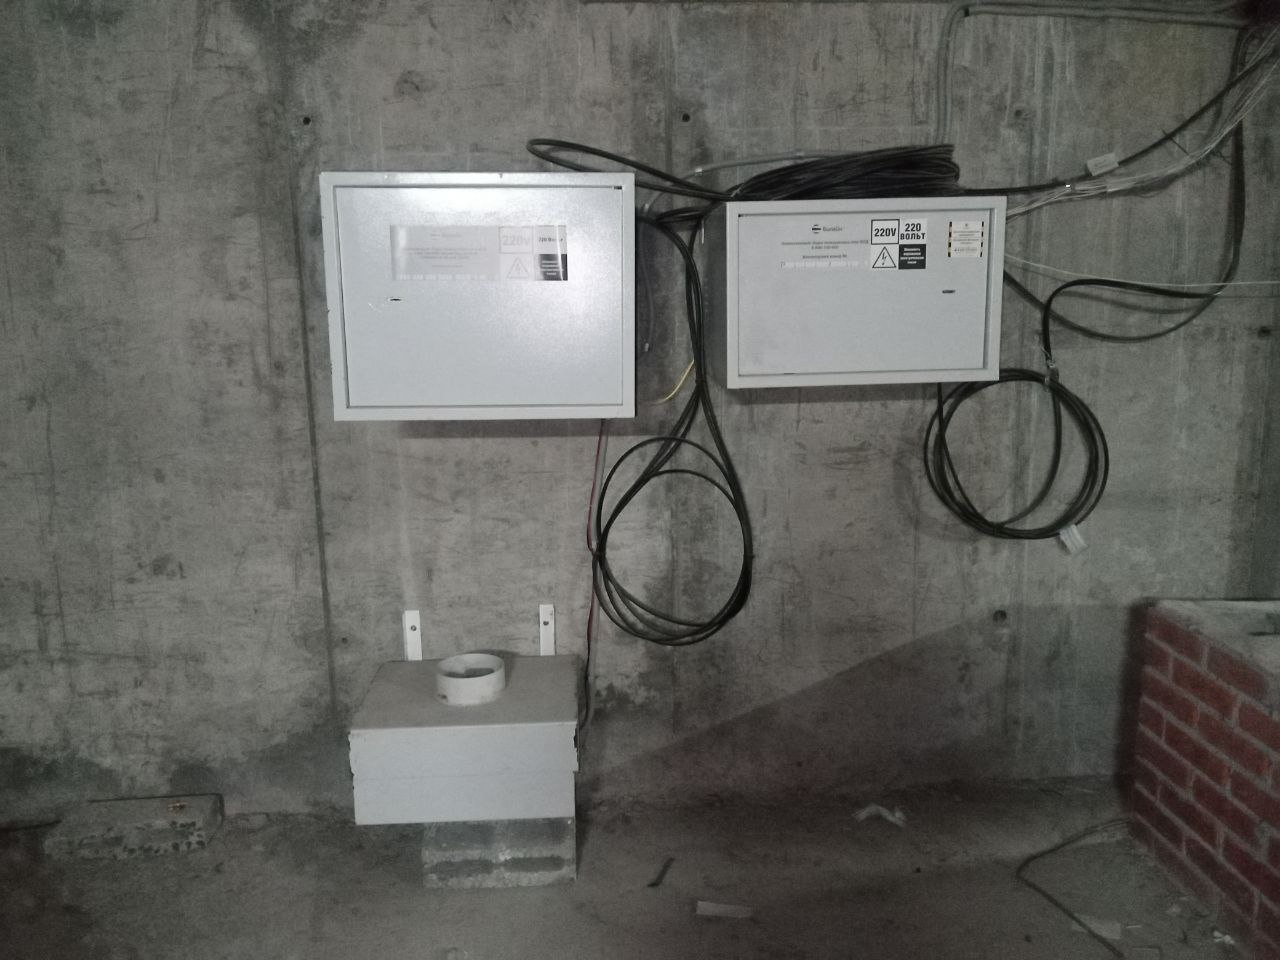shta-7m: (693, 188, 1013, 403)
shta-9m: (304, 159, 651, 435)
shta-ps: (325, 627, 601, 839)
